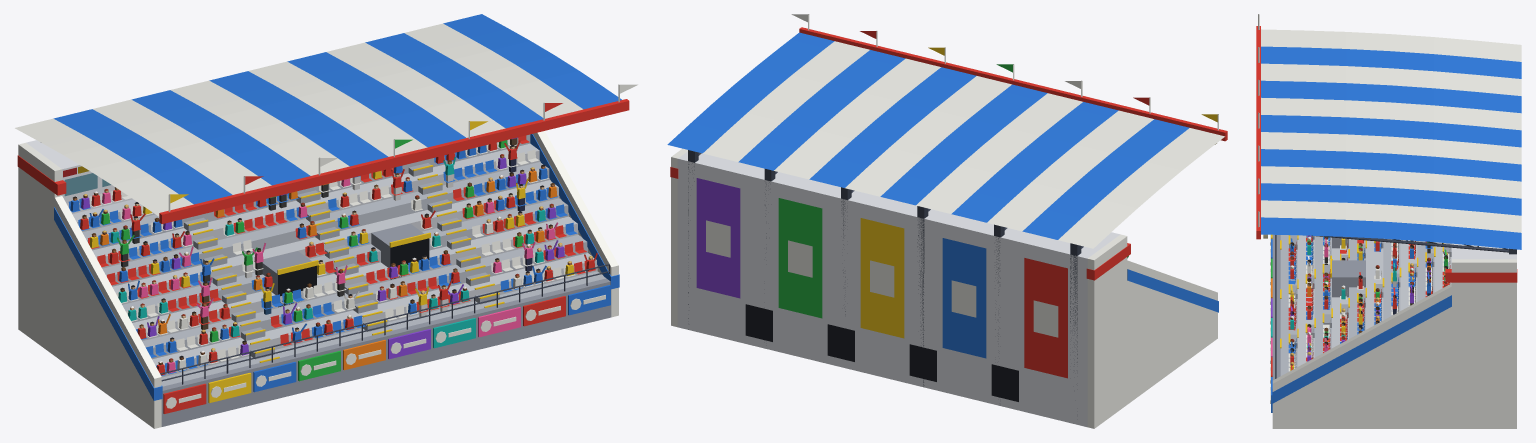
Rendered from grandstand.glb.
The picture shows the model from 3 angles, left to right: view 1: azimuth 30°, elevation 25°; view 2: azimuth 150°, elevation 25°; view 3: azimuth 270°, elevation 25°; orthographic projection. The views are drawn at different scales.
Parts seen in each view (by area): view 1: grandstand; view 2: grandstand; view 3: grandstand.
Boxes of the visible parts, x1,y1,x2,y2 form: grandstand: (15, 14, 637, 428); grandstand: (667, 14, 1227, 428); grandstand: (1256, 14, 1521, 428).
Bounding box in the file's own units: 31.9 × 15.2 × 17.05.
Materials: 2 (2 with a texture image).
